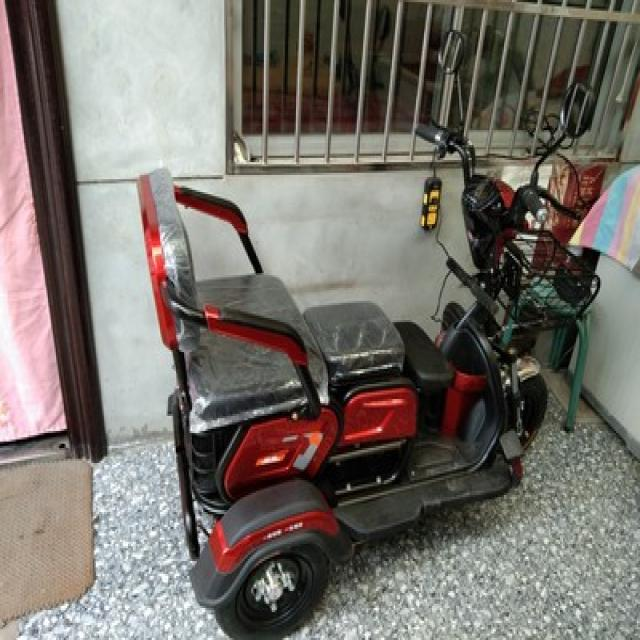tricycle: (130, 25, 600, 638)
